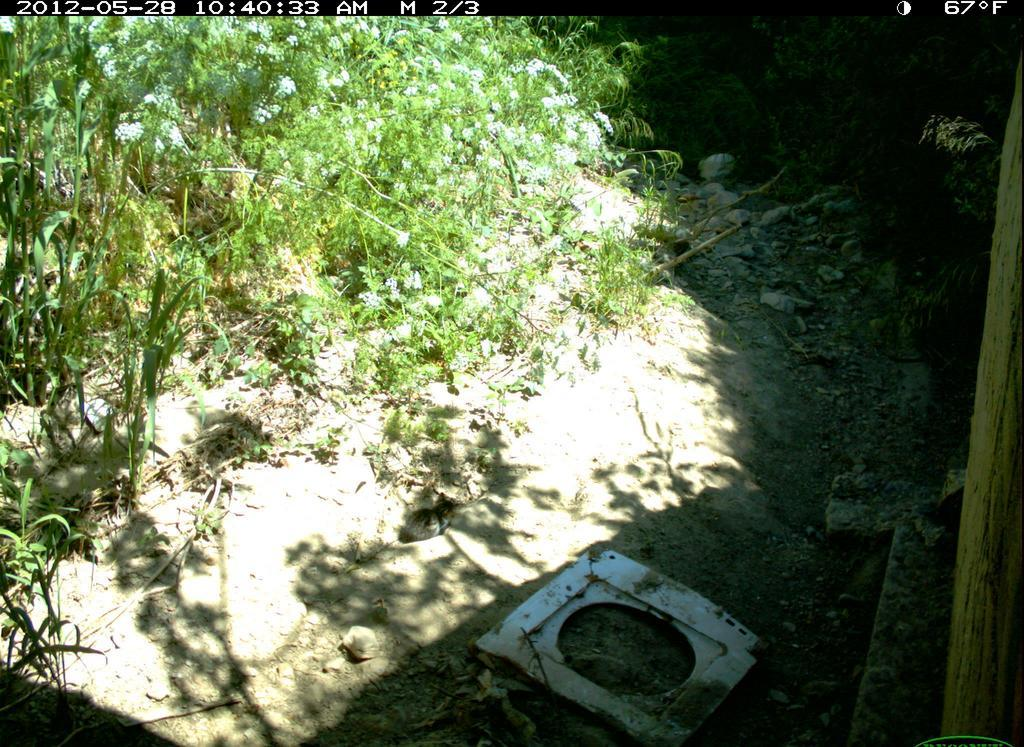cat: (402, 489, 468, 552)
